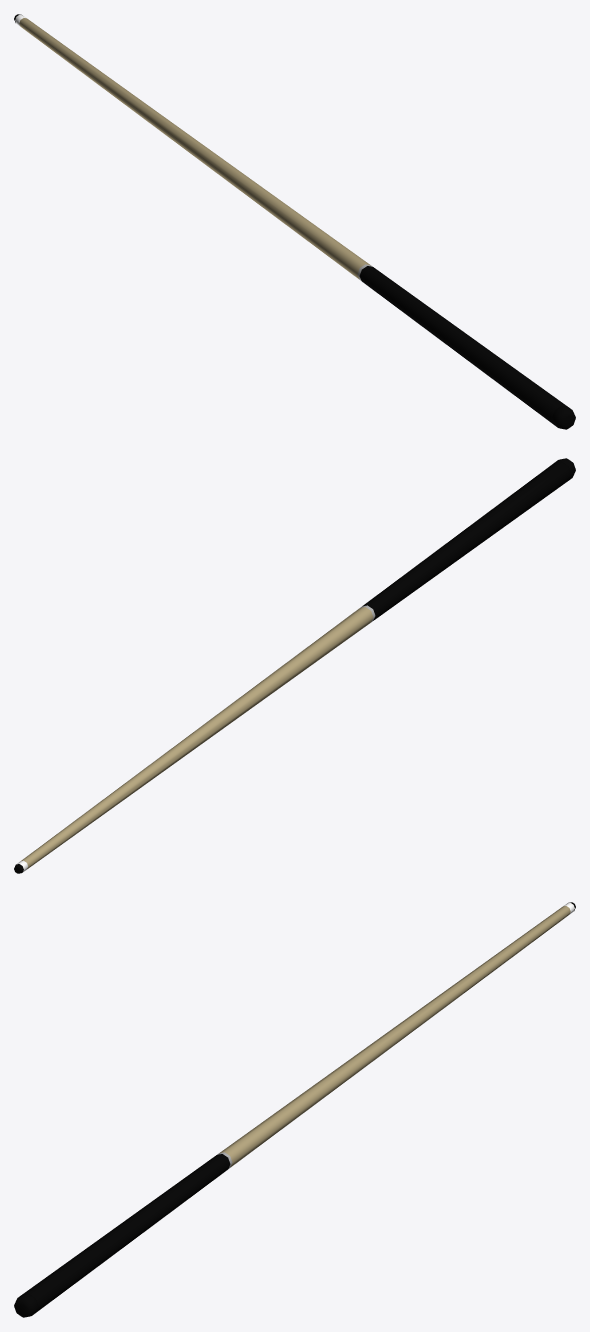
File: cue_stick.fbx
The picture shows the model from 3 angles, top to bottom: view 1: azimuth 30°, elevation 25°; view 2: azimuth 150°, elevation 25°; view 3: azimuth 330°, elevation 25°; orthographic projection.
Visible parts, largest first — view 1: Tacos.001; view 2: Tacos.001; view 3: Tacos.001.
Boxes of the visible parts, left/top/right/bottom form: Tacos.001: left=14, top=14, right=575, bottom=429; Tacos.001: left=14, top=458, right=575, bottom=873; Tacos.001: left=14, top=902, right=575, bottom=1317.
Bounding box in the file's own units: 3.09 × 3.09 × 148.
